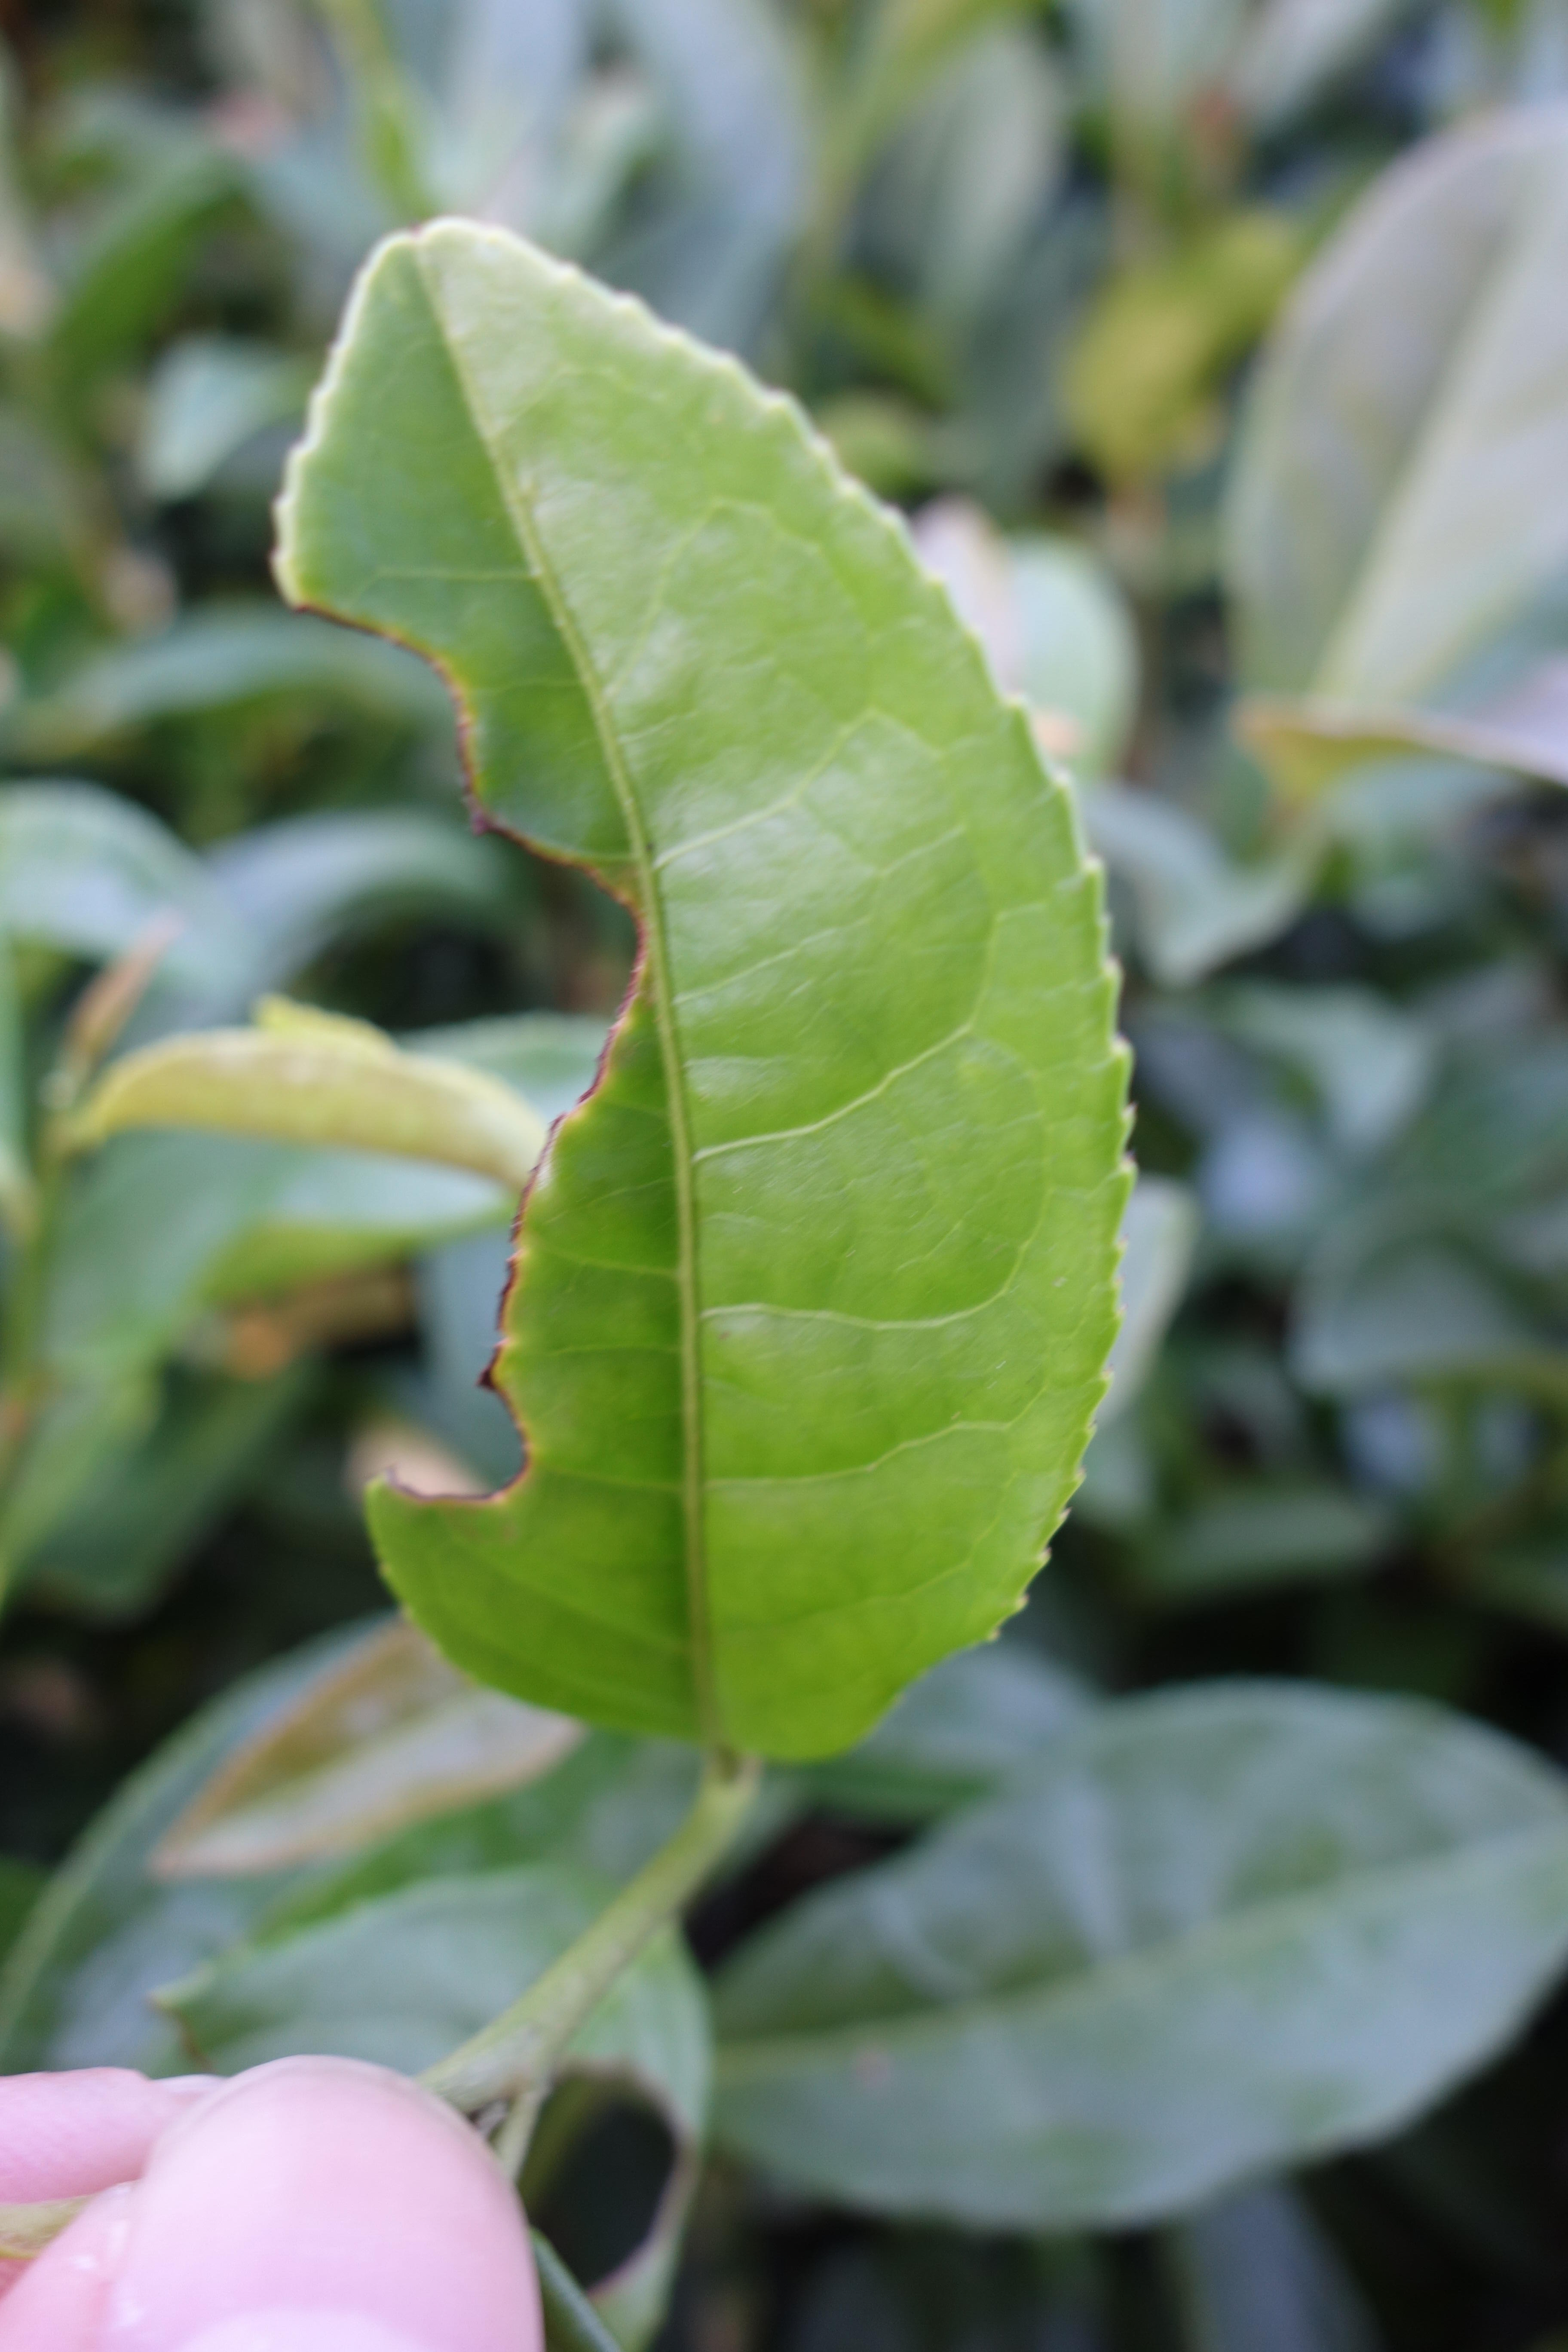chihuo_high: (278, 213, 1143, 1783)
